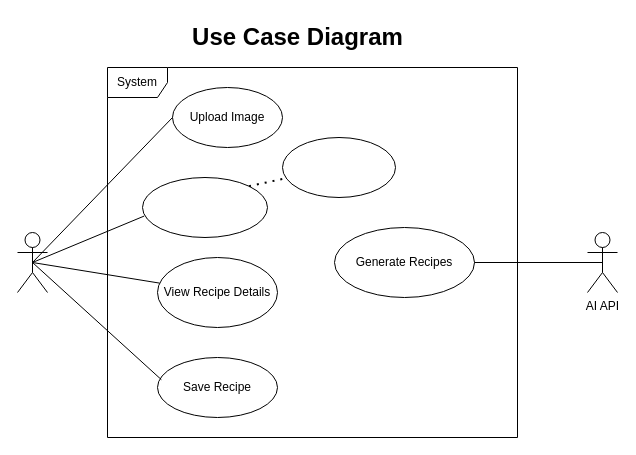
This 636x455 diagram has some shape labels left out. Each missing label, with the centre of its shape:
"Add Missing Items" belongs at [339,167].
"Confirm Detected Items" belongs at [205,207].
"User" belongs at [32,262].
